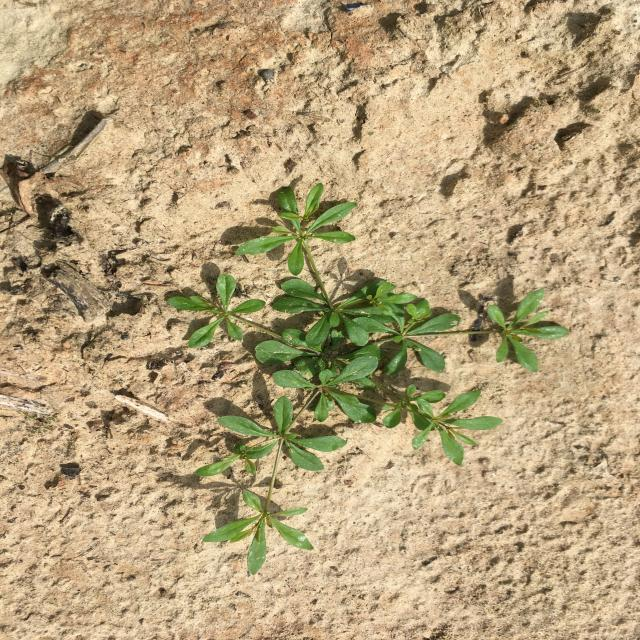Carpetweed: (167, 183, 569, 576)
